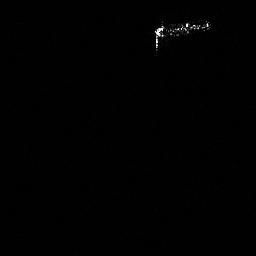ship: (151, 15, 215, 52)
